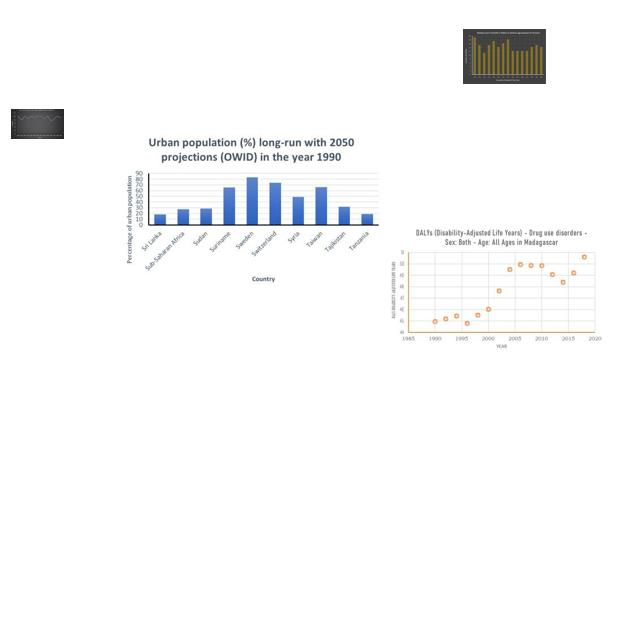Graph: (122, 134, 383, 285), (387, 226, 605, 354), (463, 29, 546, 84), (11, 109, 64, 139)
